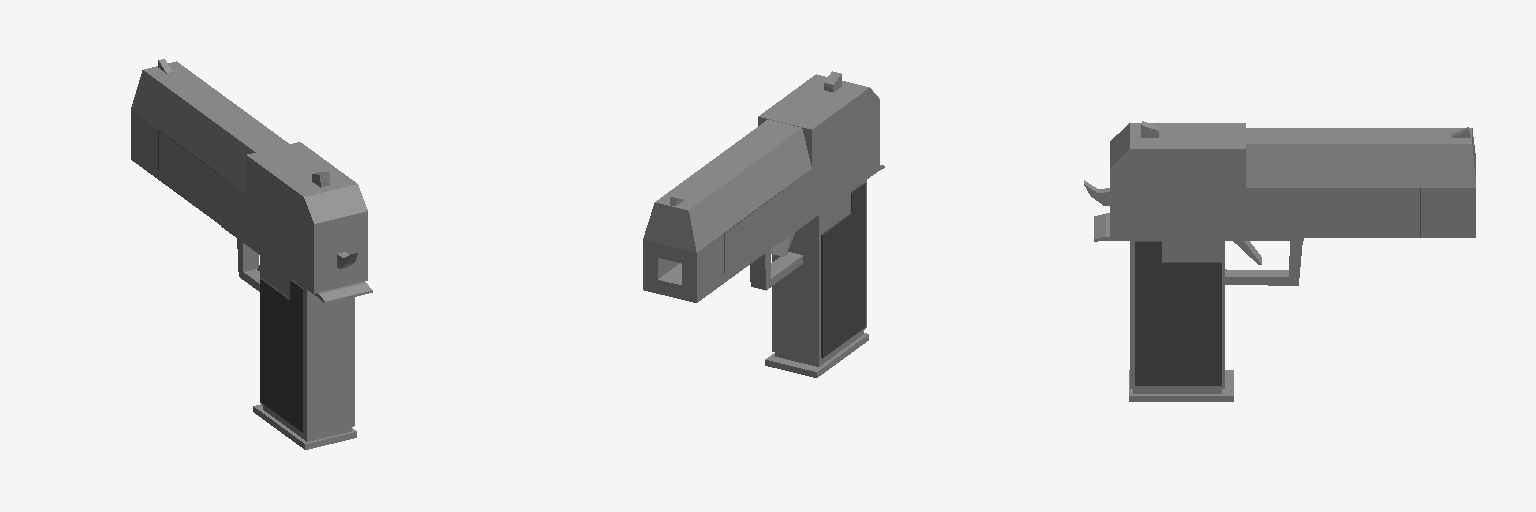
The picture shows the model from 3 angles: view 1: azimuth 30°, elevation 25°; view 2: azimuth 150°, elevation 25°; view 3: azimuth 270°, elevation 25°; orthographic projection.
Parts seen in each view (by area): view 1: Desert_Eagle_Cube.005; view 2: Desert_Eagle_Cube.005; view 3: Desert_Eagle_Cube.005.
Boxes of the visible parts, x1=… form: Desert_Eagle_Cube.005: x1=131, y1=59, x2=372, y2=449; Desert_Eagle_Cube.005: x1=643, y1=71, x2=884, y2=377; Desert_Eagle_Cube.005: x1=1084, y1=121, x2=1475, y2=401.
Bounding box in the file's own units: 0.9637 × 4.54 × 6.08.
1 materials, 1 textured.